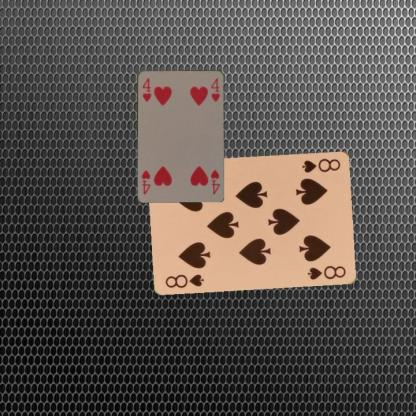4h: (208, 167, 221, 195), (140, 75, 152, 103)
8s: (300, 155, 342, 174), (163, 271, 205, 289)
